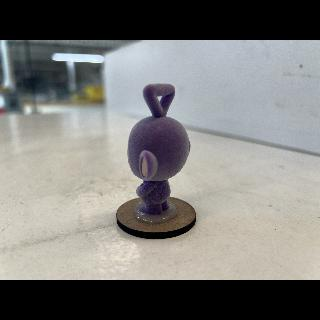teletubby: (128, 84, 190, 215)
